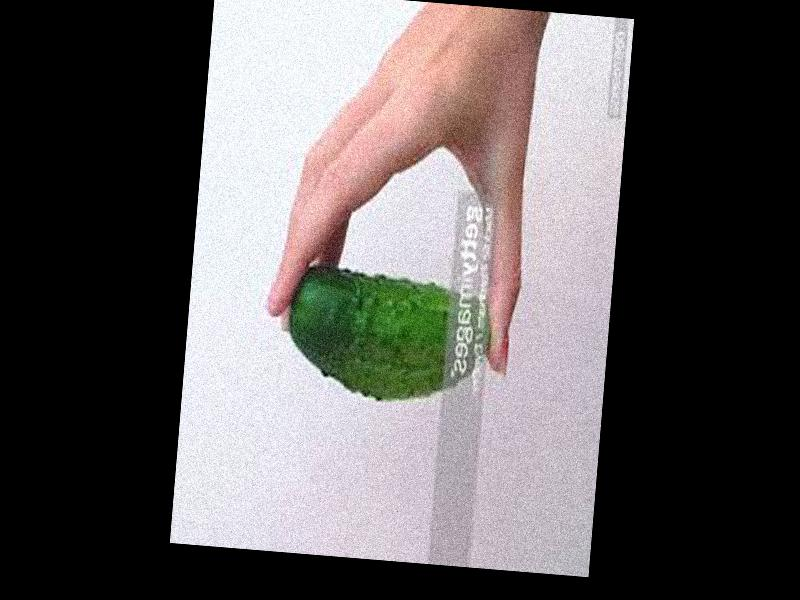Cucumber: (283, 265, 495, 409)
